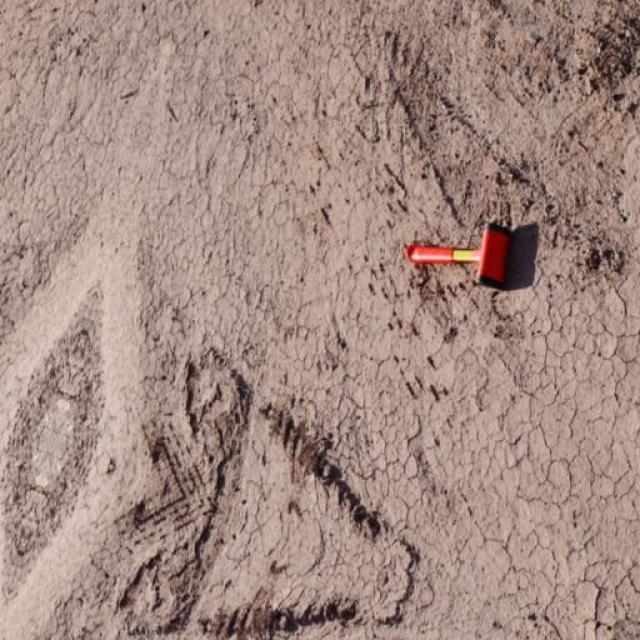mallet: (404, 220, 511, 286)
